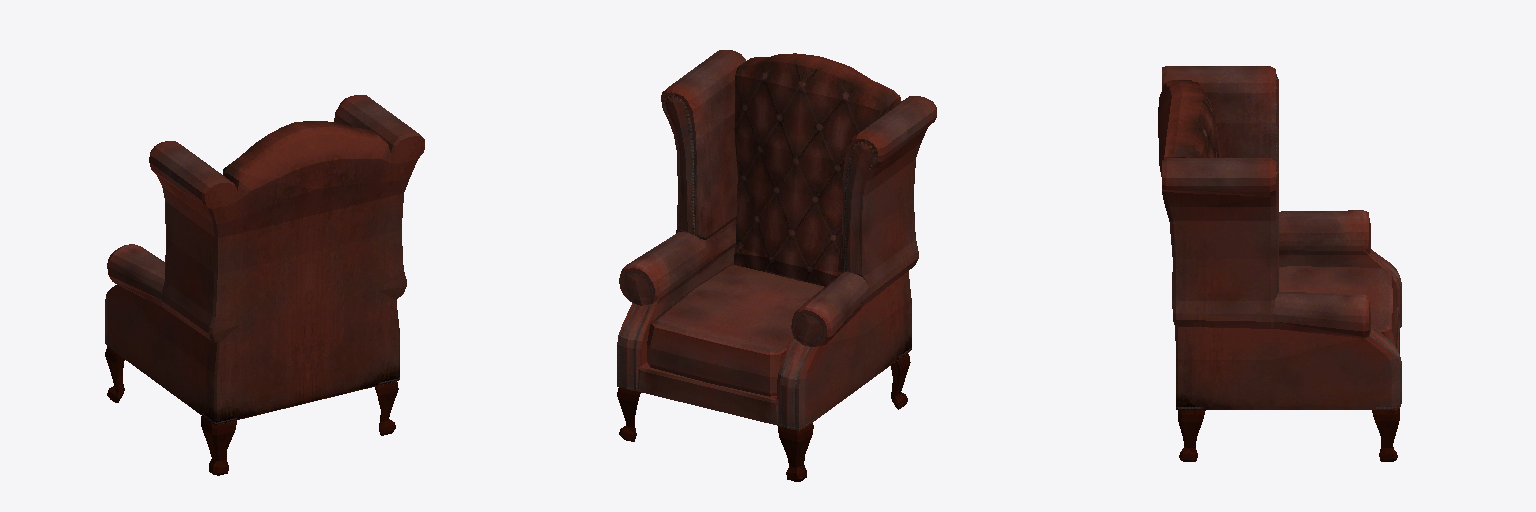
3 renders of one model, left to right at view 1: azimuth 30°, elevation 25°; view 2: azimuth 150°, elevation 25°; view 3: azimuth 270°, elevation 25°, orthographic.
Bounding box in the file's own units: 1.16 × 1.61 × 1.09.
1 materials, 1 textured.